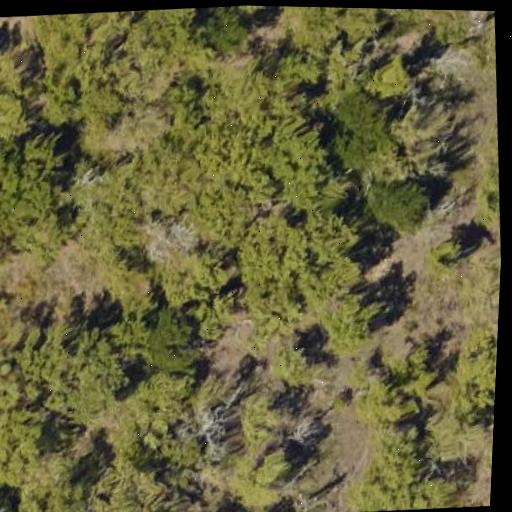tree-top: (140, 65, 339, 247), (68, 153, 177, 326), (30, 4, 200, 104), (225, 213, 361, 328), (181, 376, 295, 510), (87, 370, 196, 485), (14, 316, 132, 420), (280, 6, 459, 70), (337, 432, 467, 512), (0, 130, 73, 263), (326, 88, 404, 173), (361, 170, 440, 245), (342, 372, 431, 438), (443, 316, 498, 422), (0, 272, 43, 401), (0, 457, 96, 512), (87, 454, 178, 512), (0, 40, 47, 148), (155, 241, 229, 306), (145, 300, 205, 377), (0, 409, 54, 488), (316, 293, 384, 352), (466, 125, 504, 226), (260, 338, 322, 398), (198, 4, 256, 56), (75, 84, 126, 133), (425, 236, 465, 280), (478, 11, 499, 83), (479, 435, 493, 506)
